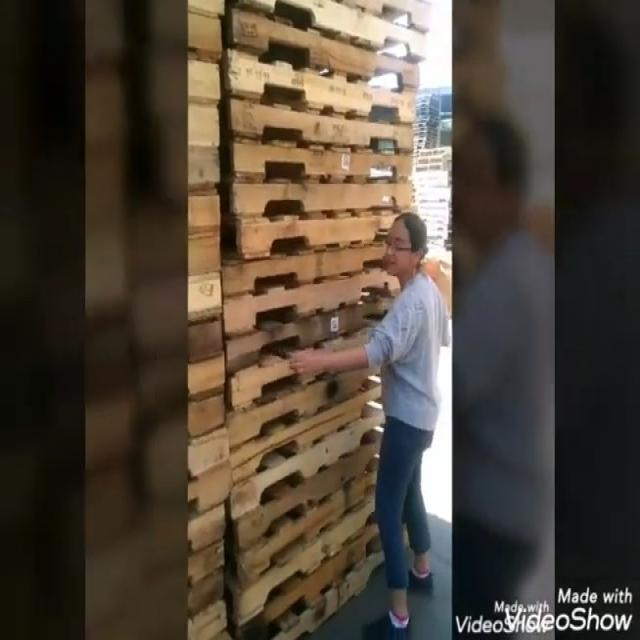Palette: (225, 0, 384, 638), (186, 1, 228, 640), (382, 0, 432, 213)
